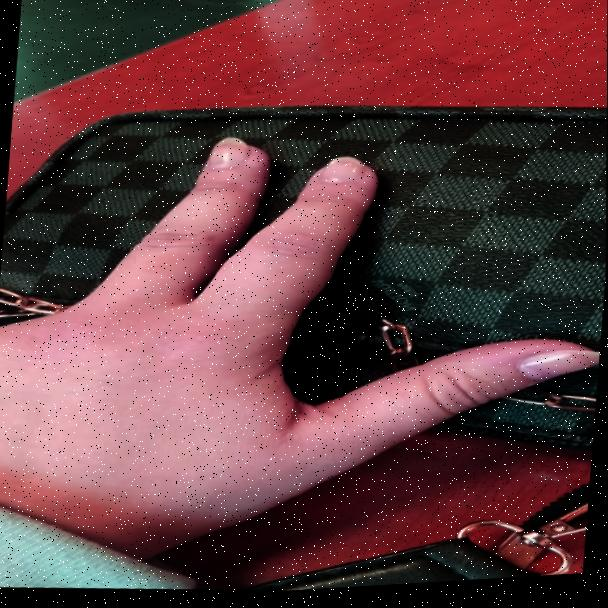three: (14, 109, 593, 557)
